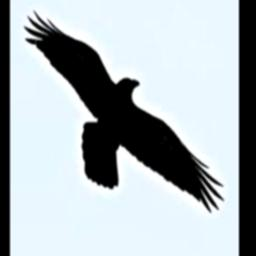Crow: (24, 10, 225, 215)
